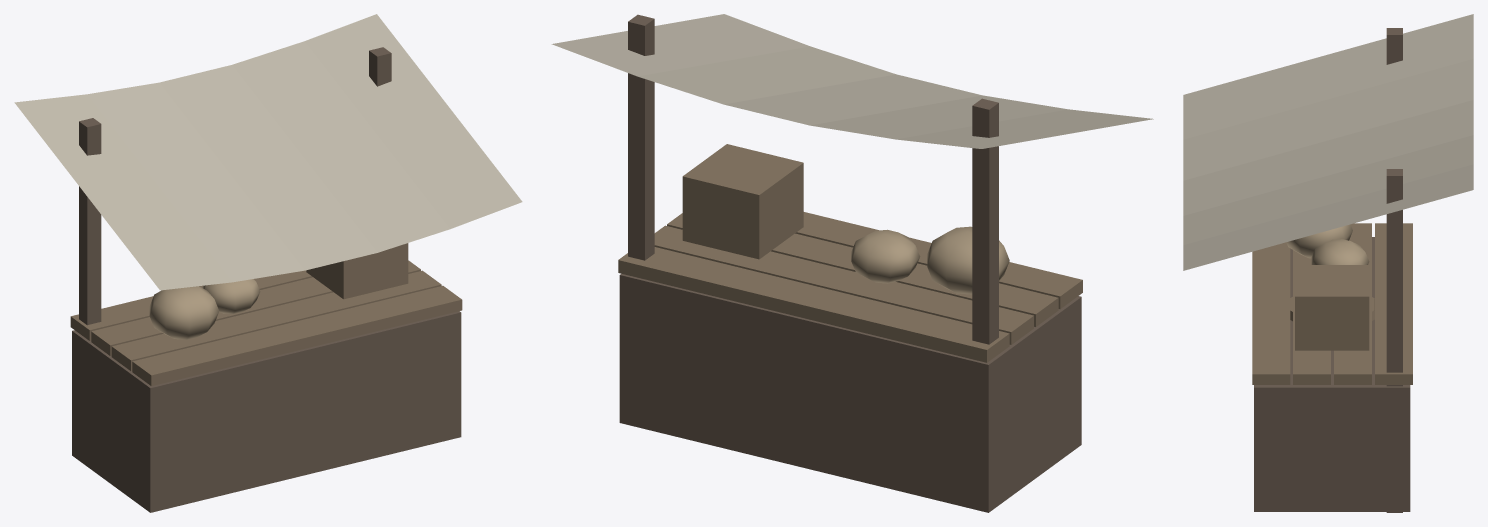
File: props.glb
3 renders of one model, left to right at view 1: azimuth 30°, elevation 25°; view 2: azimuth 150°, elevation 25°; view 3: azimuth 270°, elevation 25°, orthographic. The views are drawn at different scales.
Parts seen in each view (by area): view 1: Stall; view 2: Stall; view 3: Stall.
Boxes of the visible parts, x1=… form: Stall: x1=14, y1=14, x2=522, y2=512; Stall: x1=551, y1=14, x2=1153, y2=512; Stall: x1=1183, y1=14, x2=1473, y2=512.
Size of the model in its own units: 2.8 by 2.5 by 1.95.
